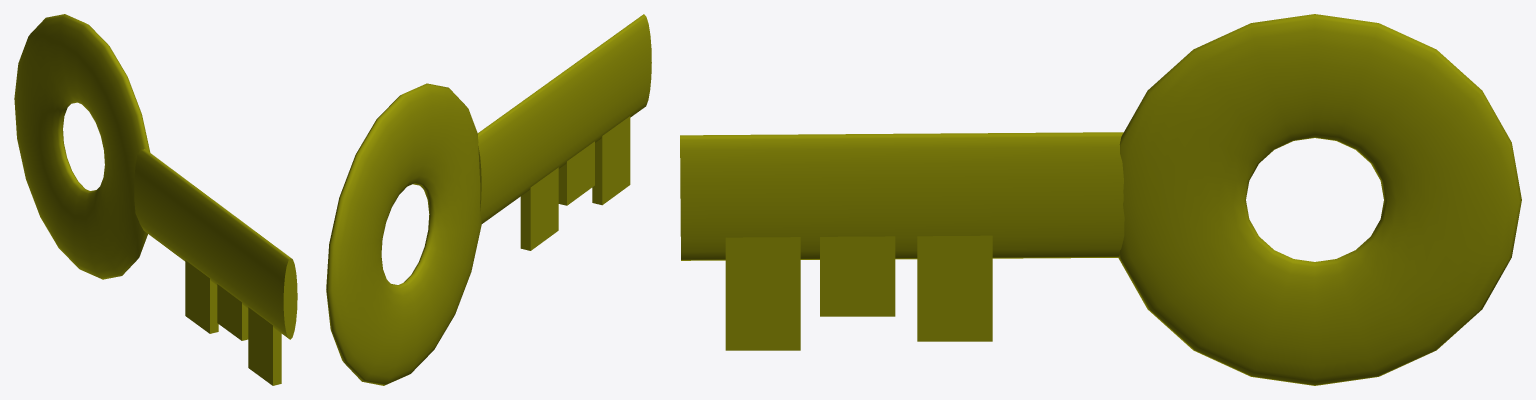
The model's file is Key.fbx.
3 views of the same model, side by side, from view 1: azimuth 30°, elevation 25°; view 2: azimuth 150°, elevation 25°; view 3: azimuth 270°, elevation 25° (orthographic). The views are drawn at different scales.
Visible parts, largest first — view 1: pTorus1, pCylinder4, pCube1, pasted__pasted__pCube1, pasted__pCube1; view 2: pTorus1, pCylinder4, pCube1, pasted__pasted__pCube1, pasted__pCube1; view 3: pTorus1, pCylinder4, pCube1, pasted__pasted__pCube1, pasted__pCube1.
Boxes of the visible parts, box(x1,y1,x2,y2) form: pTorus1: box(14, 14, 150, 279); pCylinder4: box(134, 149, 297, 339); pCube1: box(248, 307, 281, 385); pasted__pasted__pCube1: box(185, 260, 218, 333); pasted__pCube1: box(217, 284, 248, 340); pTorus1: box(326, 83, 481, 385); pCylinder4: box(478, 14, 651, 223); pCube1: box(592, 116, 630, 205); pasted__pasted__pCube1: box(520, 167, 558, 250); pasted__pCube1: box(558, 141, 594, 205); pTorus1: box(1118, 14, 1521, 385); pCylinder4: box(680, 132, 1124, 260); pCube1: box(725, 237, 800, 350); pasted__pasted__pCube1: box(917, 235, 992, 341); pasted__pCube1: box(820, 236, 895, 316).
Bounding box in the file's own units: 0.2667 × 3 × 6.1.
